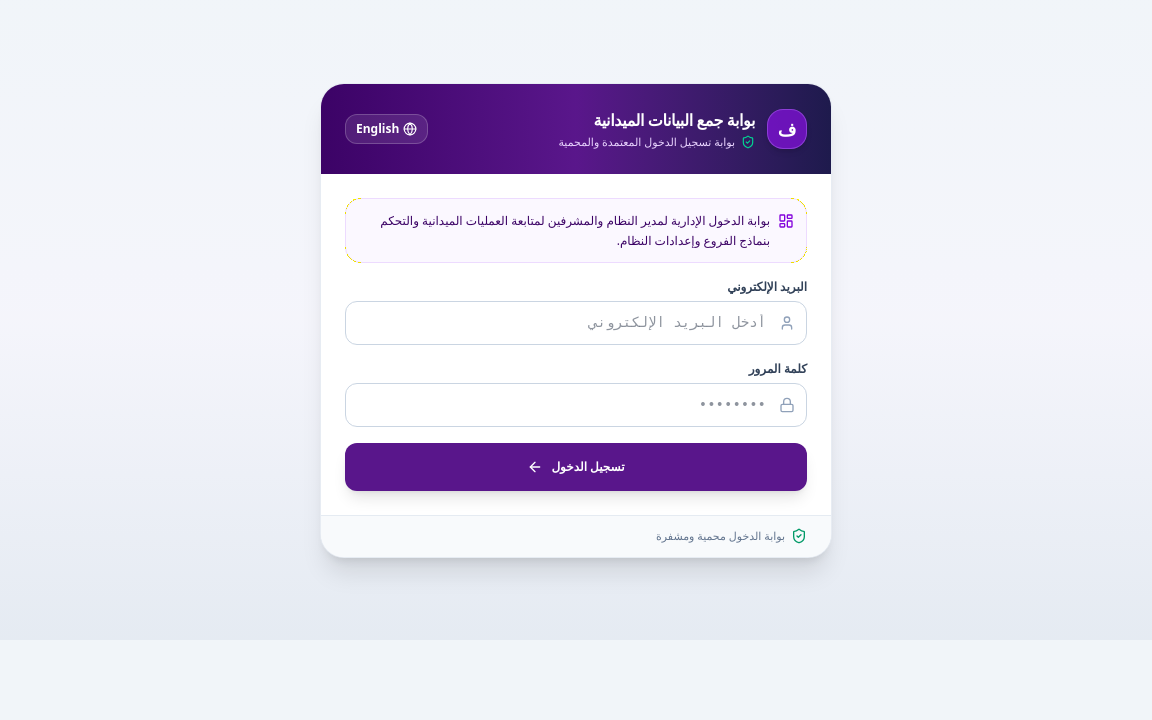
Scenario: AuthPortal Component › renders login form elements in Arabic and toggles language
Expected: the heading "بوابة جمع البيانات الميدانية" is shown, [594, 108, 755, 130]
Expected: the text "البريد الإلكتروني" is shown, [727, 278, 807, 295]
Note: Toggle language
Step 1. Click the button "English" → click(387, 129), box [345, 114, 428, 144]
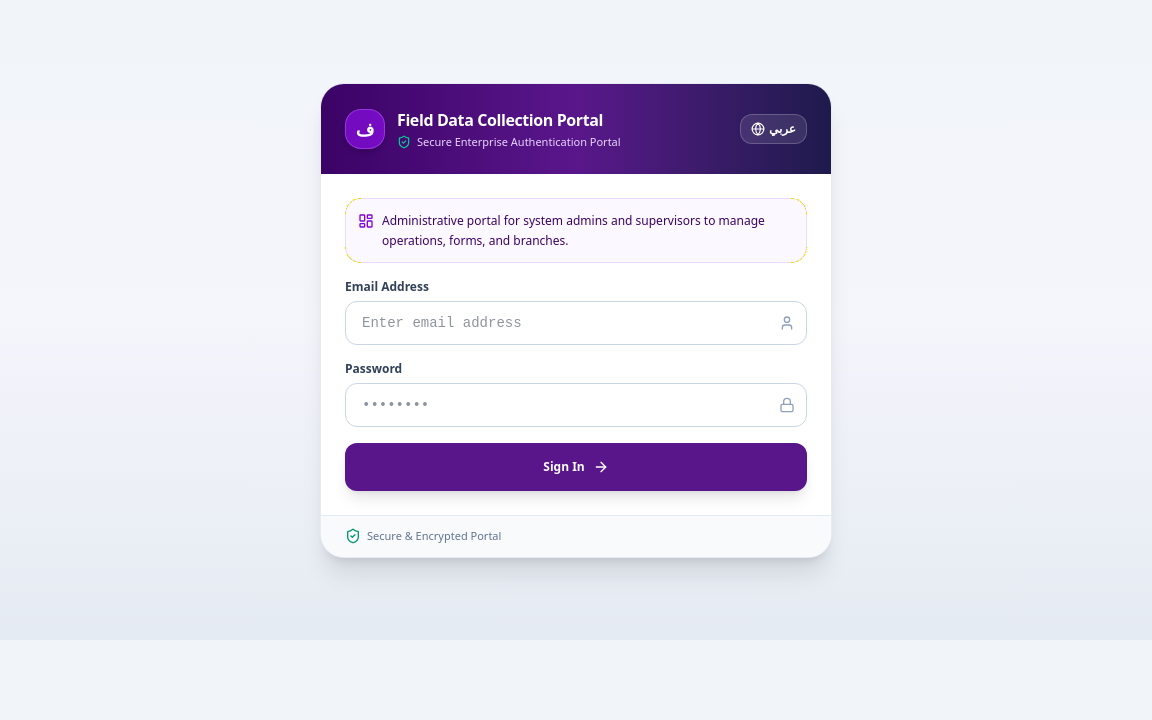
Expected: the heading "Field Data Collection Portal" is shown, [397, 108, 621, 132]
Expected: the text "Email Address" is shown, [345, 278, 429, 295]
